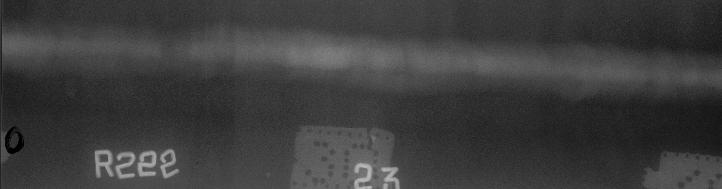FF: (5, 25, 722, 95)
